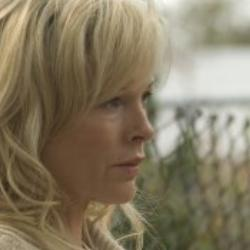face: (1, 3, 178, 238)
